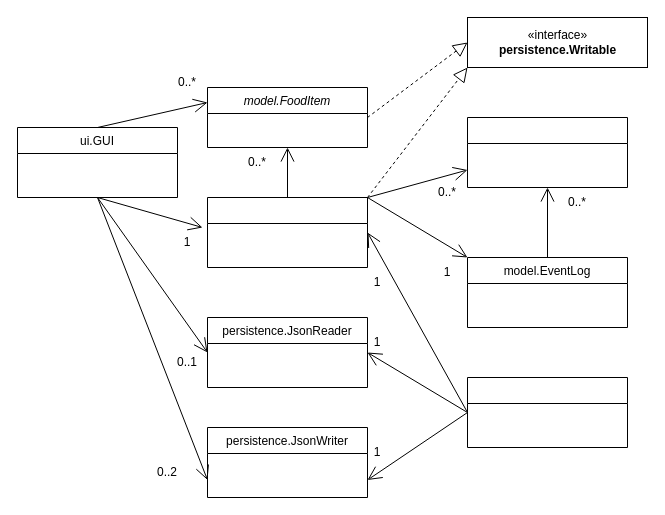
Some shapes in this 665 by 515 pixel diagram are drawn without their labels. The centre of each missing label's shape, as x and y in pixels:
"model.Event" belongs at [547,152].
"model.FoodDiary" belongs at [287,232].
"ui.FoodDiaryApp" belongs at [547,412].
